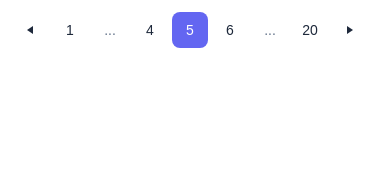
Test: Pagination › opens dropdown when ellipsis is clicked
The image size is (370, 172).
Click the button named "go to previous pages": coordinates (110, 30) [92, 12, 128, 48]
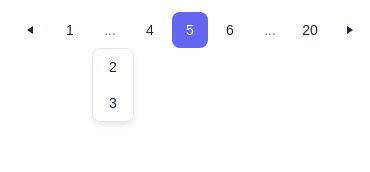
Now the element with class "gallui-pagination__dropdown" is shown, box [92, 48, 134, 122]
